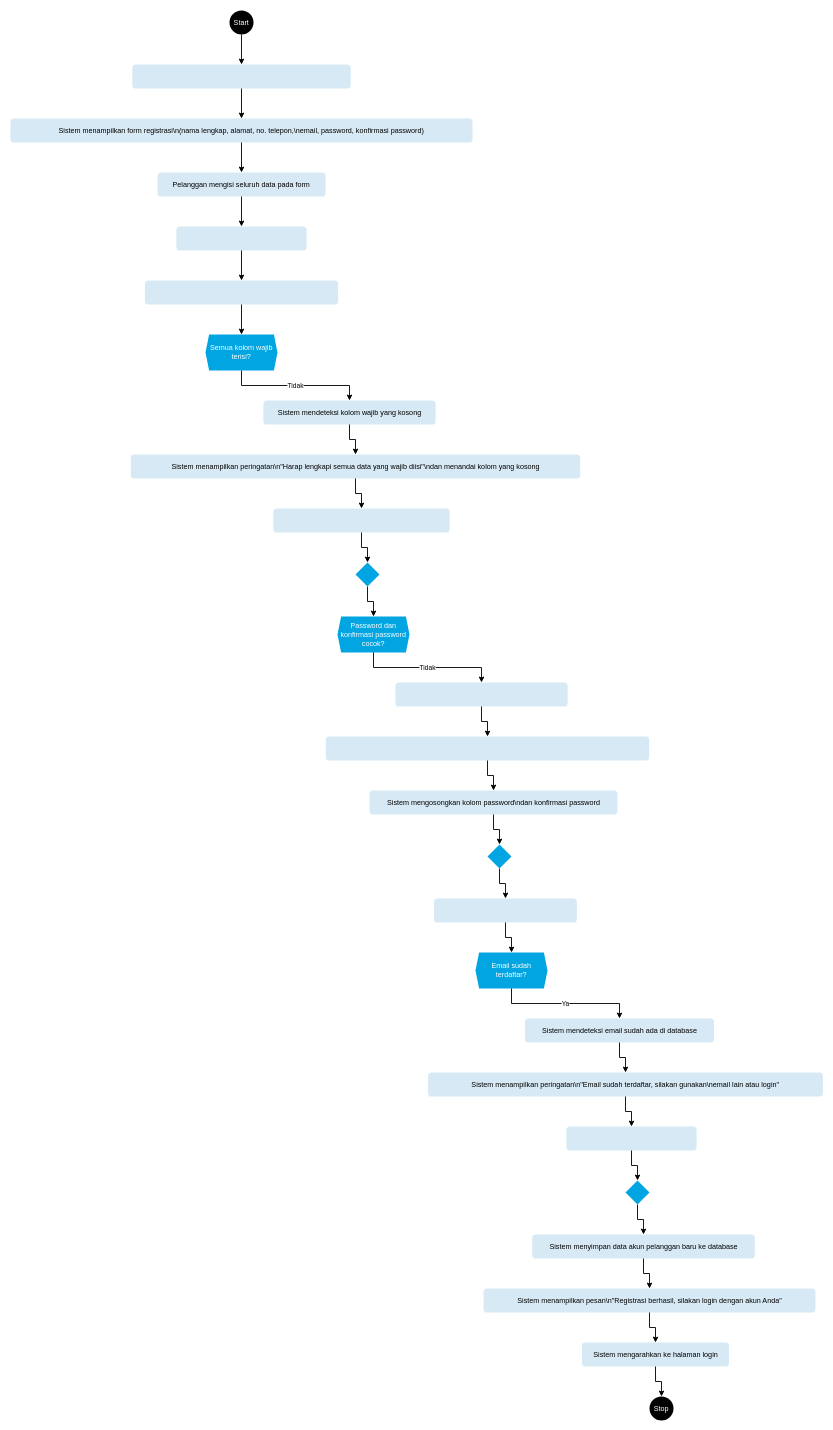
Image size: 833x1430. Some labels were removed from this diagram. The shapes that lost their labels are listed below. From the top down, each one's box as (x1, y1, x2, y2) in pixels, then its label:
(132, 64, 350, 88): Pelanggan membuka aplikasi dan menekan tombol Daftar
(176, 226, 306, 250): Pelanggan menekan tombol Daftar
(145, 280, 338, 304): Sistem memvalidasi kelengkapan dan format data
(273, 508, 449, 532): Sistem kembali menampilkan form registrasi
(395, 682, 567, 706): Sistem mendeteksi ketidakcocokan password
(326, 736, 649, 760): Sistem menampilkan peringatan\n"Password dan konfirmasi password tidak cocok"
(434, 898, 577, 922): Sistem memeriksa email di database
(566, 1126, 696, 1150): Sistem mengosongkan kolom email
